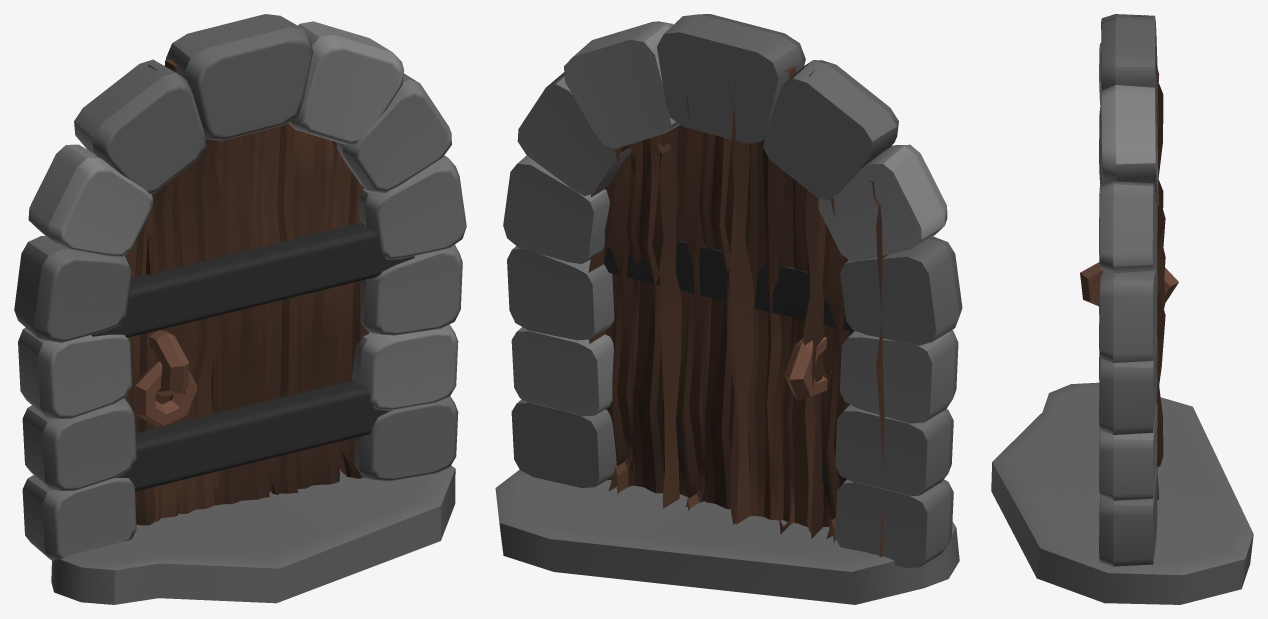
Rendered from SRDoor.fbx.
3 views of the same model, side by side, from view 1: azimuth 30°, elevation 25°; view 2: azimuth 150°, elevation 25°; view 3: azimuth 270°, elevation 25° (orthographic). The views are drawn at different scales.
Visible parts, largest first — view 1: Door; view 2: Door; view 3: Door.
Boxes of the visible parts, bbox=[...] form: Door: bbox=[14, 14, 466, 604]; Door: bbox=[495, 14, 962, 604]; Door: bbox=[991, 14, 1253, 604].
Bounding box in the file's own units: 1.57 × 1.84 × 0.8948.
